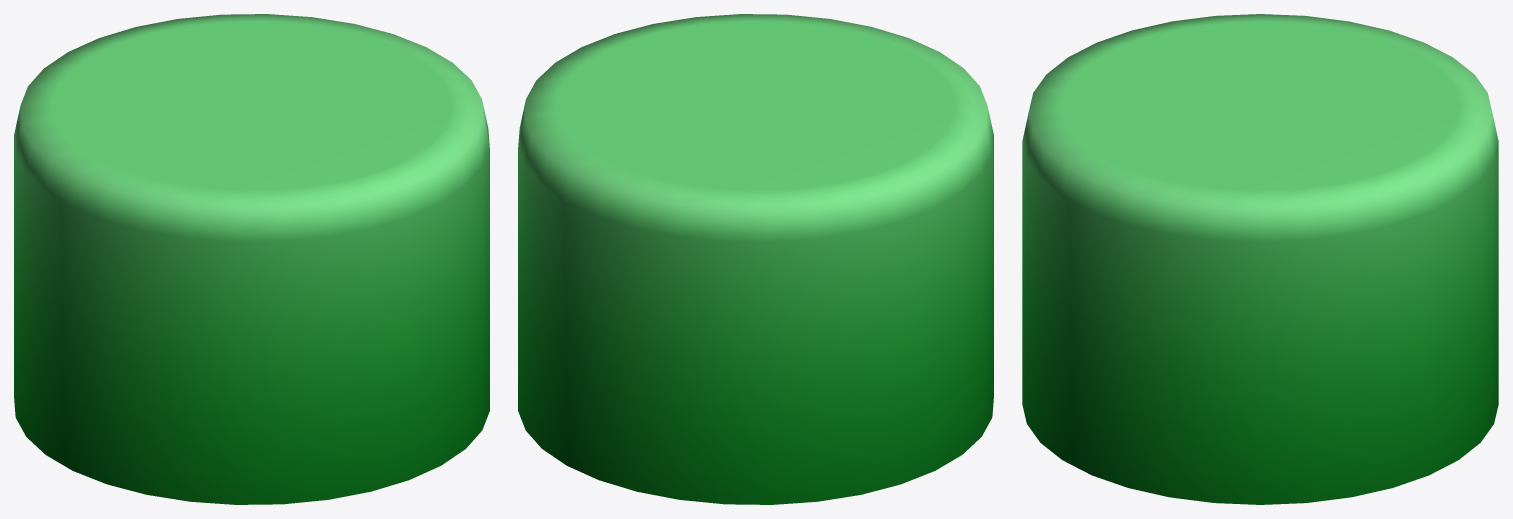
Rendered from SLongl_VCilinder.fbx.
3 renders of one model, left to right at view 1: azimuth 30°, elevation 25°; view 2: azimuth 150°, elevation 25°; view 3: azimuth 270°, elevation 25°, orthographic.
Parts seen in each view (by area): view 1: Circle.003; view 2: Circle.003; view 3: Circle.003.
Boxes of the visible parts, box(x1,y1,x2,y2) form: Circle.003: box(14, 14, 489, 504); Circle.003: box(518, 14, 993, 504); Circle.003: box(1022, 14, 1498, 504).
Size of the model in its own units: 149 by 103 by 149.
